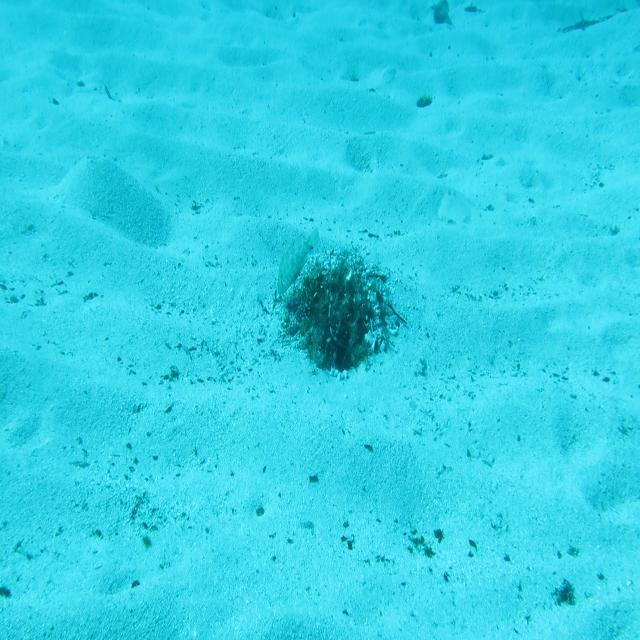NIP_IN: (274, 216, 323, 302)
core_nest: (319, 292, 354, 319)
nest: (286, 261, 397, 386)
